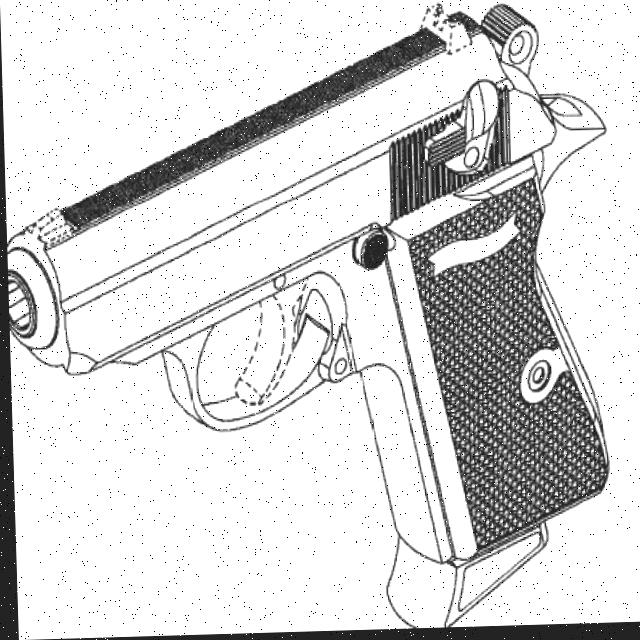pistol: (0, 1, 616, 640)
